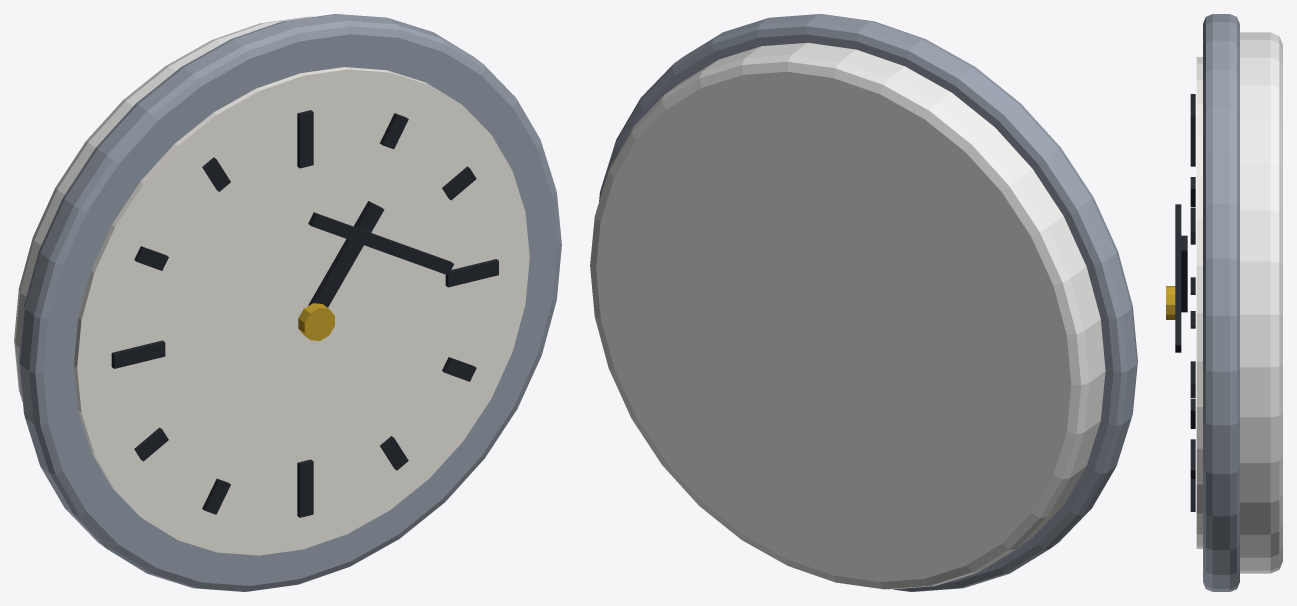
Rendered from wall-clock.glb.
3 renders of one model, left to right at view 1: azimuth 30°, elevation 25°; view 2: azimuth 150°, elevation 25°; view 3: azimuth 270°, elevation 25°, orthographic. The views are drawn at different scales.
Visible parts, largest first — view 1: case; view 2: case; view 3: case.
Boxes of the visible parts, <box> form: case: <box>14,14,561,591</box>; case: <box>590,14,1137,591</box>; case: <box>1166,14,1282,591</box>.
Bounding box in the file's own units: 0.47 × 0.47 × 0.095.
